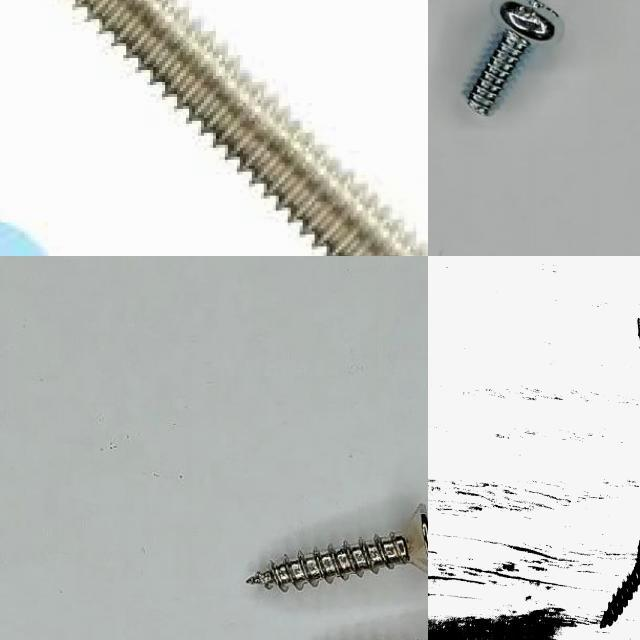Screw: (74, 0, 428, 256), (247, 504, 428, 591), (468, 0, 564, 116), (600, 540, 640, 628)
